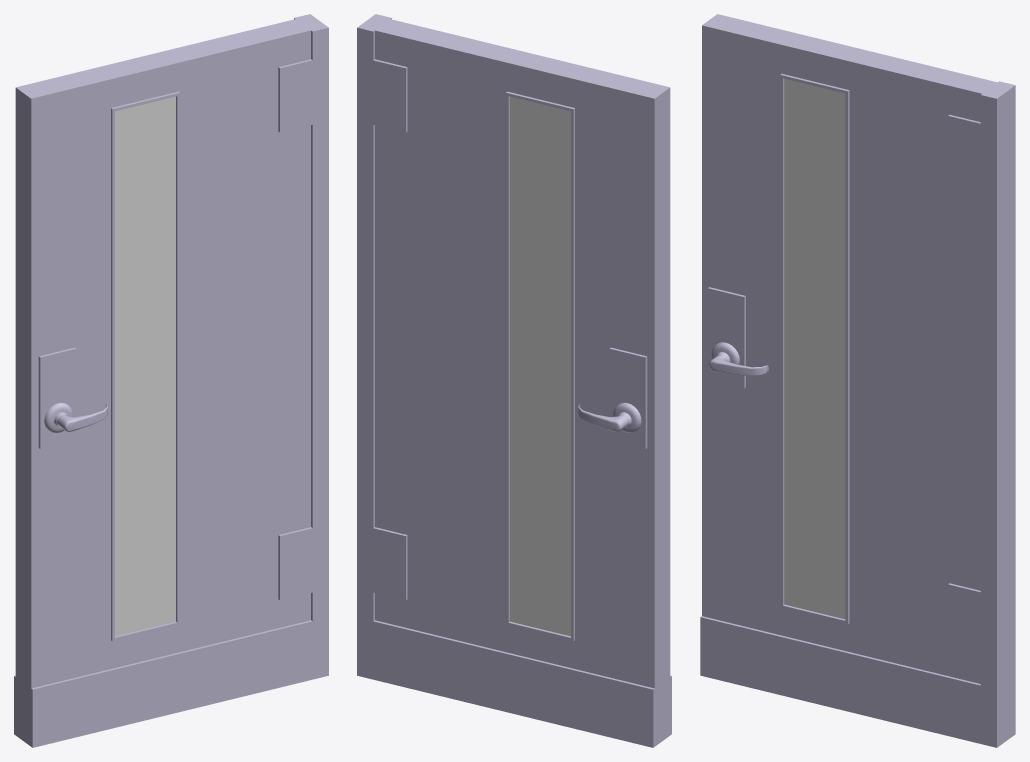
Rendered from doorwindow_low.fbx.
3 views of the same model, side by side, from view 1: azimuth 30°, elevation 25°; view 2: azimuth 150°, elevation 25°; view 3: azimuth 330°, elevation 25° (orthographic).
Visible parts, largest first — view 1: Box014; view 2: Box014; view 3: Box014.
Boxes of the visible parts, x1=… form: Box014: x1=14, y1=14, x2=328, y2=747; Box014: x1=357, y1=14, x2=671, y2=747; Box014: x1=700, y1=14, x2=1015, y2=747.
Size of the model in its own units: 44 by 92 by 11.29.
